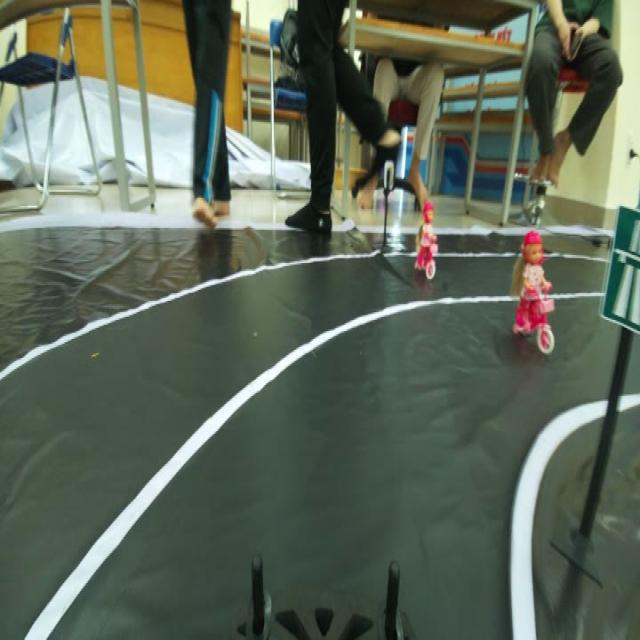highway_entry: (598, 191, 640, 337)
pedestrian: (502, 224, 559, 362), (406, 194, 444, 283)
